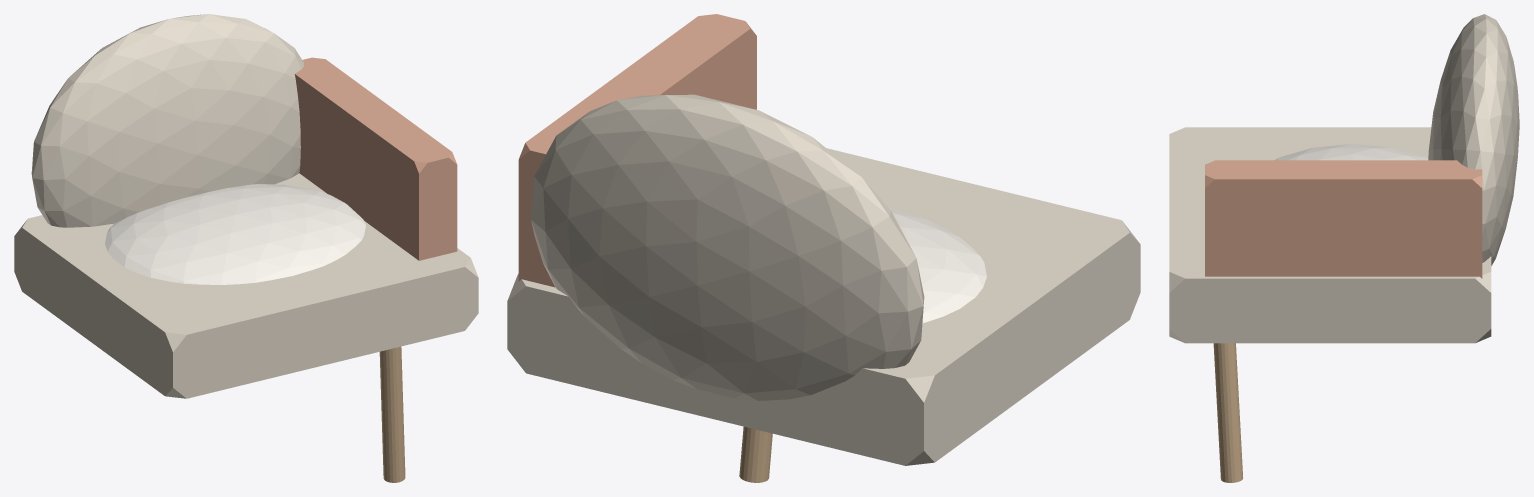
Rendered from accent_chair_medium.glb.
The picture shows the model from 3 angles, left to right: view 1: azimuth 30°, elevation 25°; view 2: azimuth 150°, elevation 25°; view 3: azimuth 270°, elevation 25°; orthographic projection. The views are drawn at different scales.
Parts seen in each view (by area): view 1: FABRIC_MAIN_seat, FABRIC_MAIN_back, FABRIC_ACCENT_arm, FABRIC_LIGHT_pad, WOOD_DARK_leg; view 2: FABRIC_MAIN_back, FABRIC_MAIN_seat, FABRIC_ACCENT_arm, FABRIC_LIGHT_pad, WOOD_DARK_leg; view 3: FABRIC_MAIN_seat, FABRIC_ACCENT_arm, FABRIC_MAIN_back, WOOD_DARK_leg, FABRIC_LIGHT_pad.
Part boxes in pixels (bbox=[...]): FABRIC_MAIN_seat: bbox=[14, 173, 478, 398]; FABRIC_MAIN_back: bbox=[31, 14, 303, 227]; FABRIC_ACCENT_arm: bbox=[294, 57, 457, 260]; FABRIC_LIGHT_pad: bbox=[105, 184, 365, 284]; WOOD_DARK_leg: bbox=[379, 346, 405, 482]; FABRIC_MAIN_back: bbox=[531, 94, 924, 400]; FABRIC_MAIN_seat: bbox=[507, 148, 1140, 465]; FABRIC_ACCENT_arm: bbox=[518, 14, 756, 287]; FABRIC_LIGHT_pad: bbox=[889, 208, 986, 323]; WOOD_DARK_leg: bbox=[739, 426, 772, 482]; FABRIC_MAIN_seat: bbox=[1169, 127, 1491, 343]; FABRIC_ACCENT_arm: bbox=[1205, 160, 1482, 278]; FABRIC_MAIN_back: bbox=[1428, 14, 1519, 265]; WOOD_DARK_leg: bbox=[1213, 343, 1242, 482]; FABRIC_LIGHT_pad: bbox=[1274, 144, 1428, 160].
Bounding box in the file's own units: 0.8 × 0.9798 × 0.7839.
